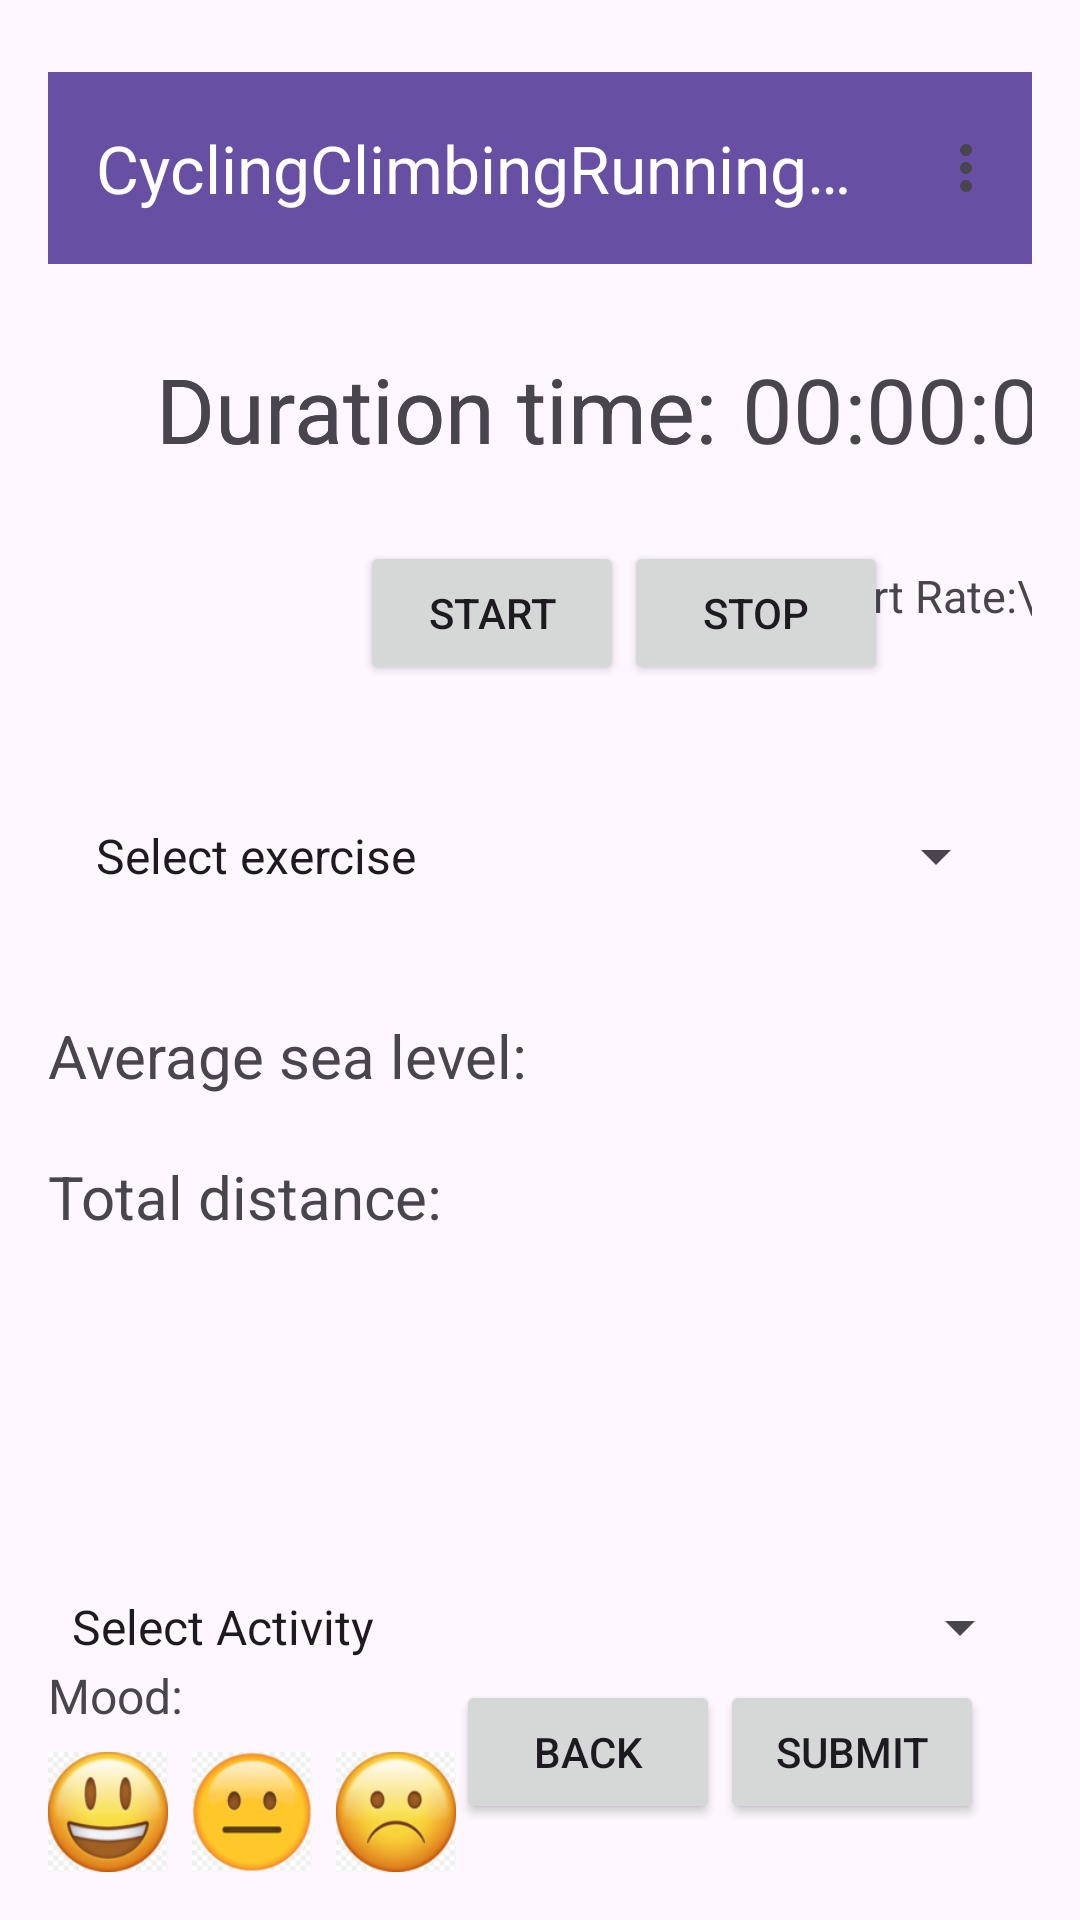

Locate icon controls on the screen. Image size 1080px x 1920px, boxes as (x1, y1, x2, y2).
bad: (336, 1752, 456, 1872)
happy: (48, 1752, 168, 1872)
neutral: (193, 1753, 311, 1871)
